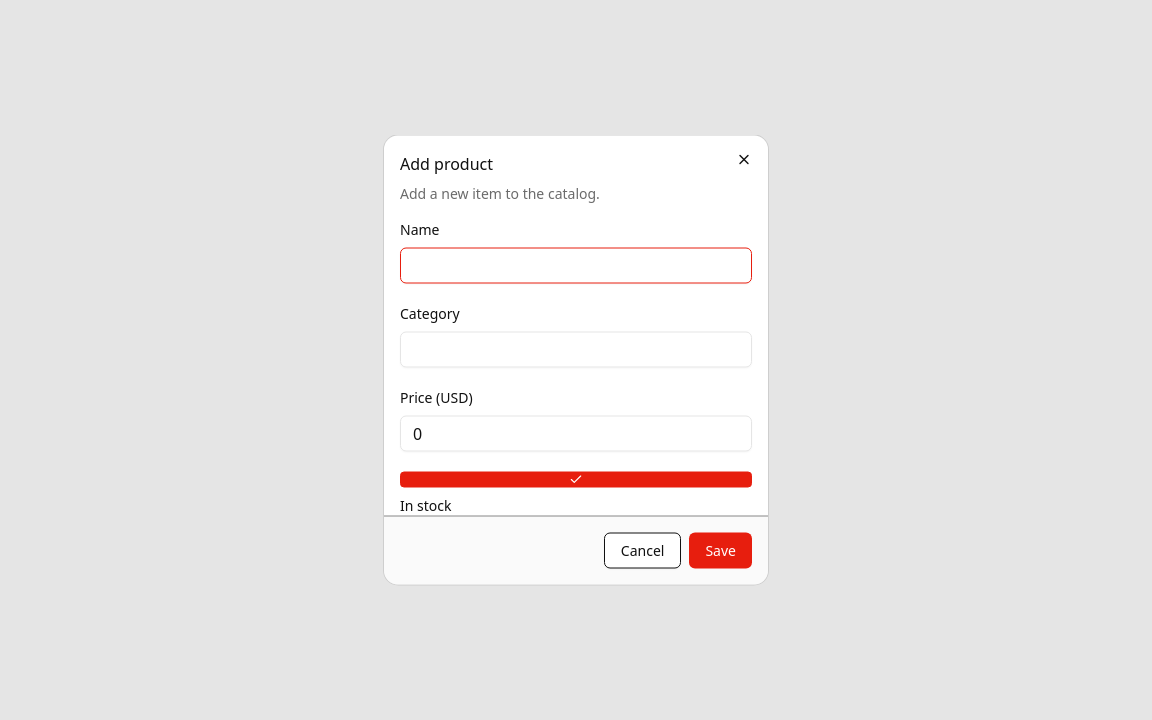
ProductFormDialog › shows validation errors instead of submitting when fields are empty
Clear the number field labelled "Price (USD)": (576, 434) [400,416,752,452]
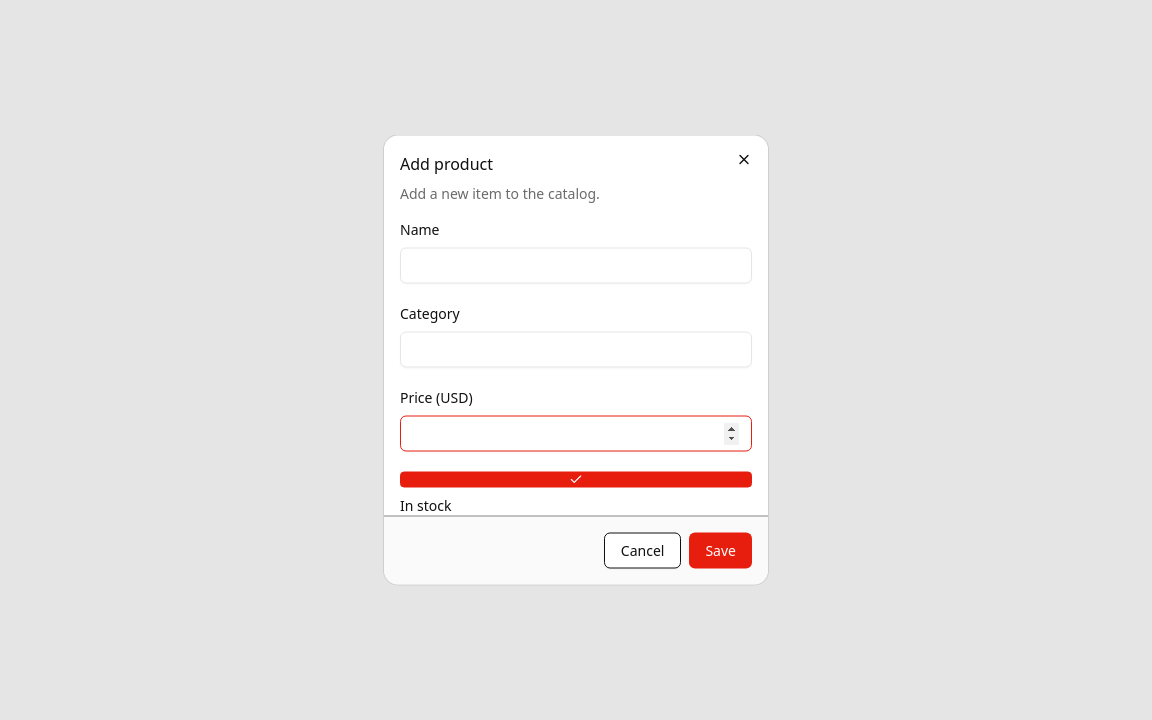
Click the button "Save": (721, 550) [689,532,752,568]
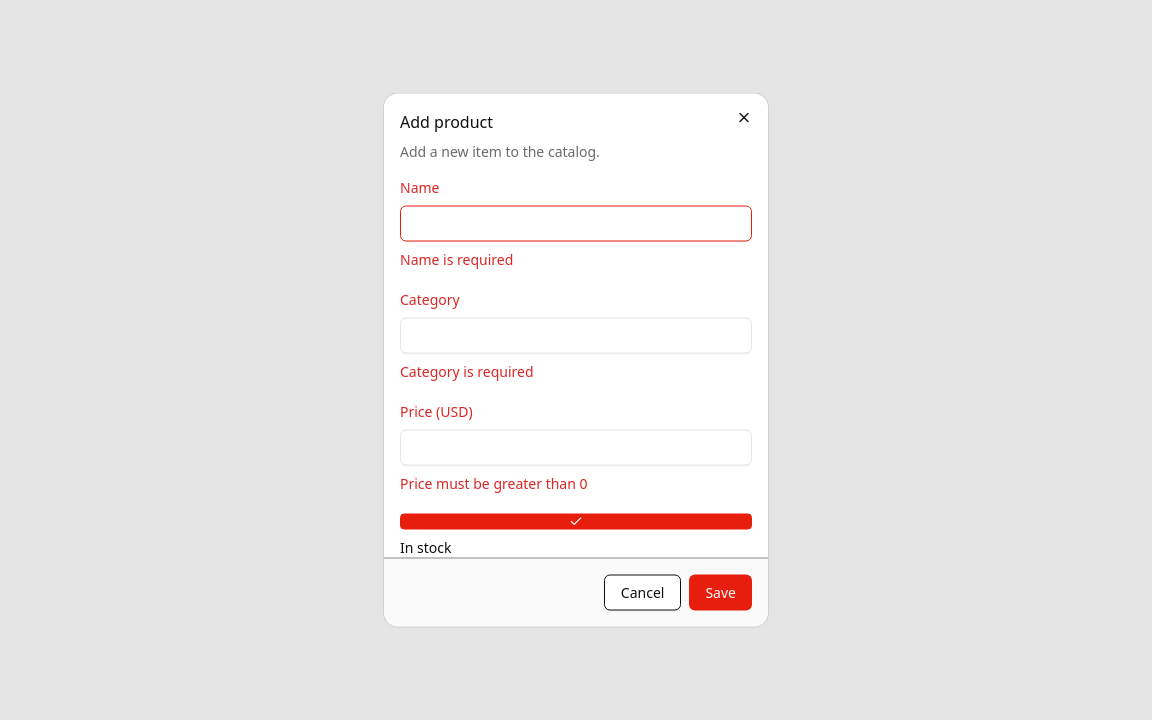
Now the text "Name is required" is shown, box [400,250,513,268]
